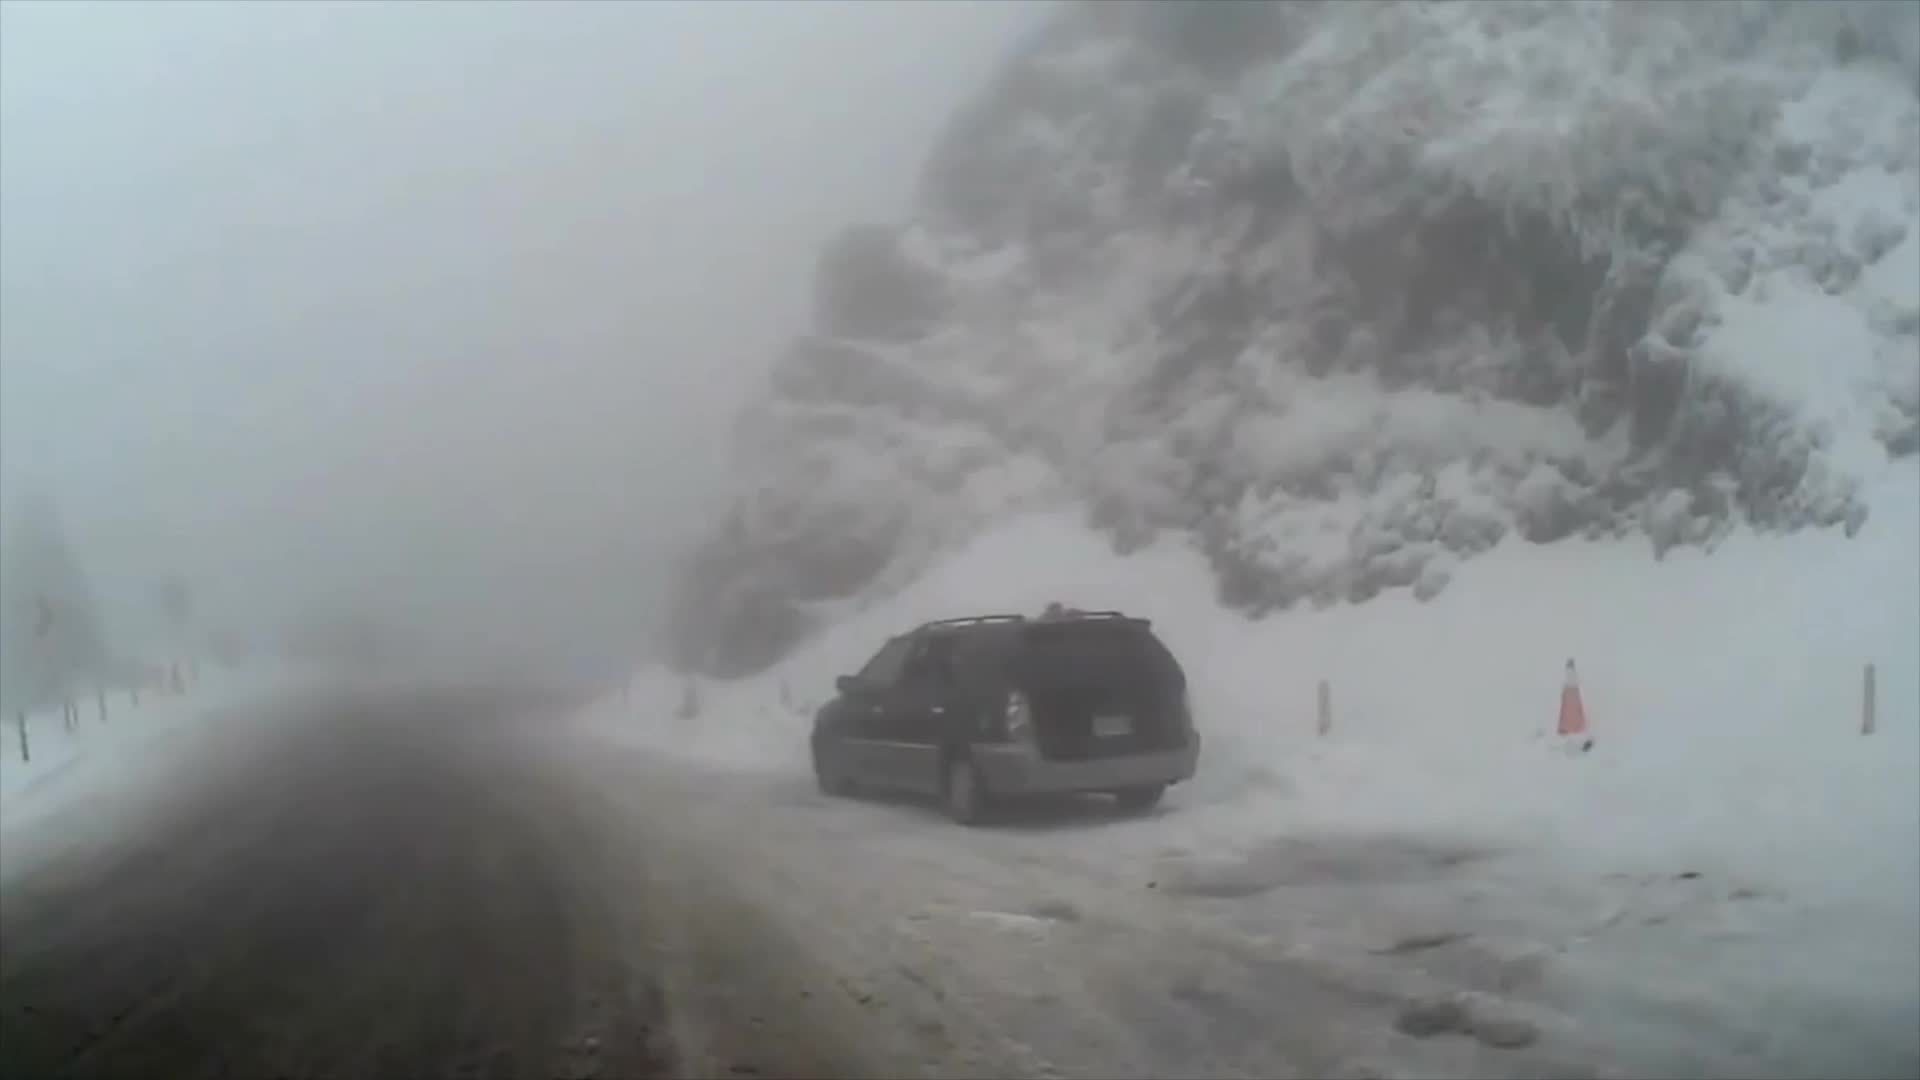vehicle: (807, 609, 1200, 825)
